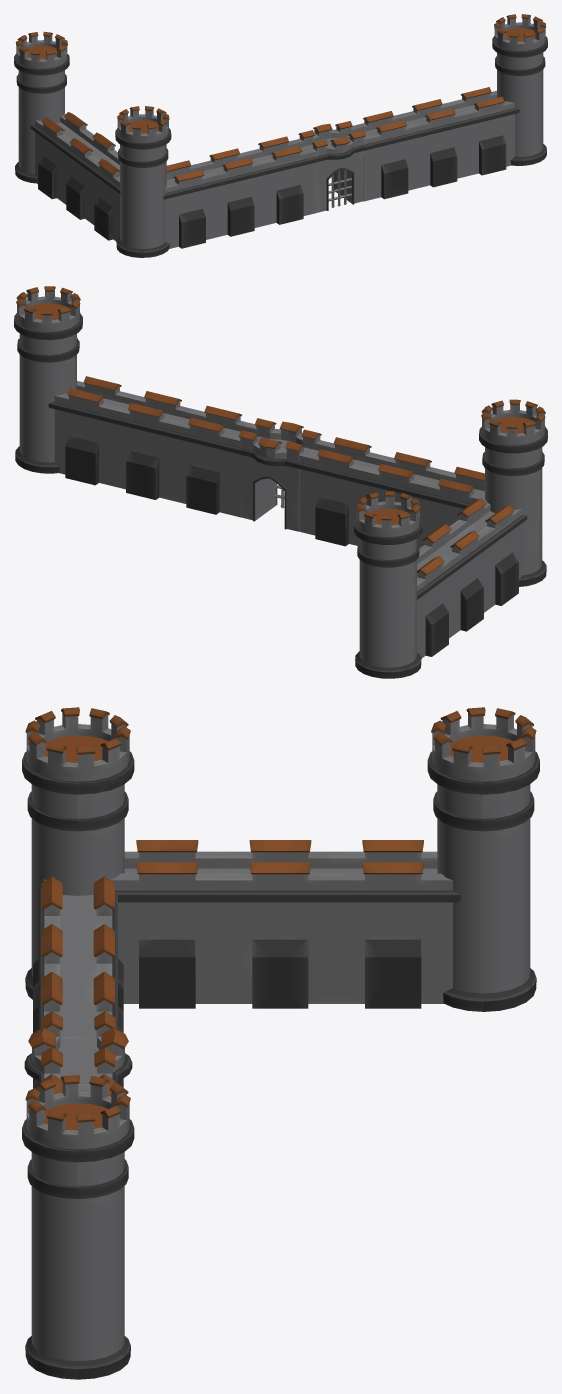
Rendered from Castle.fbx.
3 views of the same model, one above another, from view 1: azimuth 30°, elevation 25°; view 2: azimuth 150°, elevation 25°; view 3: azimuth 270°, elevation 25° (orthographic). The views are drawn at different scales.
Parts seen in each view (by area): view 1: Castle_Wall1, Castle_Wall2, Castle_Wall, castle_Tower, castle_Tower5, castle_Tower2, Castle_Gate, Gate; view 2: Castle_Wall1, Castle_Wall2, Castle_Wall, castle_Tower2, castle_Tower5, castle_Tower, Castle_Gate; view 3: Castle_Wall, castle_Tower5, castle_Tower2, castle_Tower, Castle_Wall2, Castle_Gate.
Part boxes in pixels (bbox=[...]): Castle_Wall1: bbox=[350, 87, 519, 201]; Castle_Wall2: bbox=[163, 136, 318, 248]; Castle_Wall: bbox=[30, 112, 120, 241]; castle_Tower: bbox=[115, 106, 171, 257]; castle_Tower5: bbox=[492, 14, 547, 165]; castle_Tower2: bbox=[14, 31, 69, 183]; Castle_Gate: bbox=[298, 121, 365, 212]; Gate: bbox=[328, 170, 351, 207]; Castle_Wall1: bbox=[48, 376, 256, 517]; Castle_Wall2: bbox=[297, 437, 485, 548]; Castle_Wall: bbox=[417, 498, 527, 658]; castle_Tower2: bbox=[354, 491, 422, 678]; castle_Tower5: bbox=[14, 286, 82, 473]; castle_Tower: bbox=[479, 399, 547, 586]; Castle_Gate: bbox=[238, 418, 321, 531]; Castle_Wall: bbox=[111, 840, 460, 1008]; castle_Tower5: bbox=[22, 1075, 134, 1379]; castle_Tower2: bbox=[427, 707, 539, 1011]; castle_Tower: bbox=[22, 707, 134, 999]; Castle_Wall2: bbox=[33, 876, 123, 1089]; Castle_Gate: bbox=[24, 1011, 132, 1083].
Size of the model in its own units: 174 by 51.34 by 91.69.
